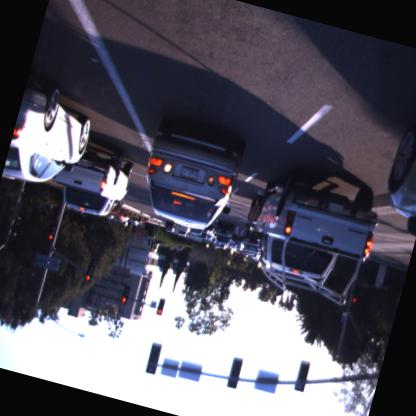trafficlight: (118, 281, 132, 306), (82, 262, 95, 284), (154, 296, 167, 317), (46, 223, 58, 242)
